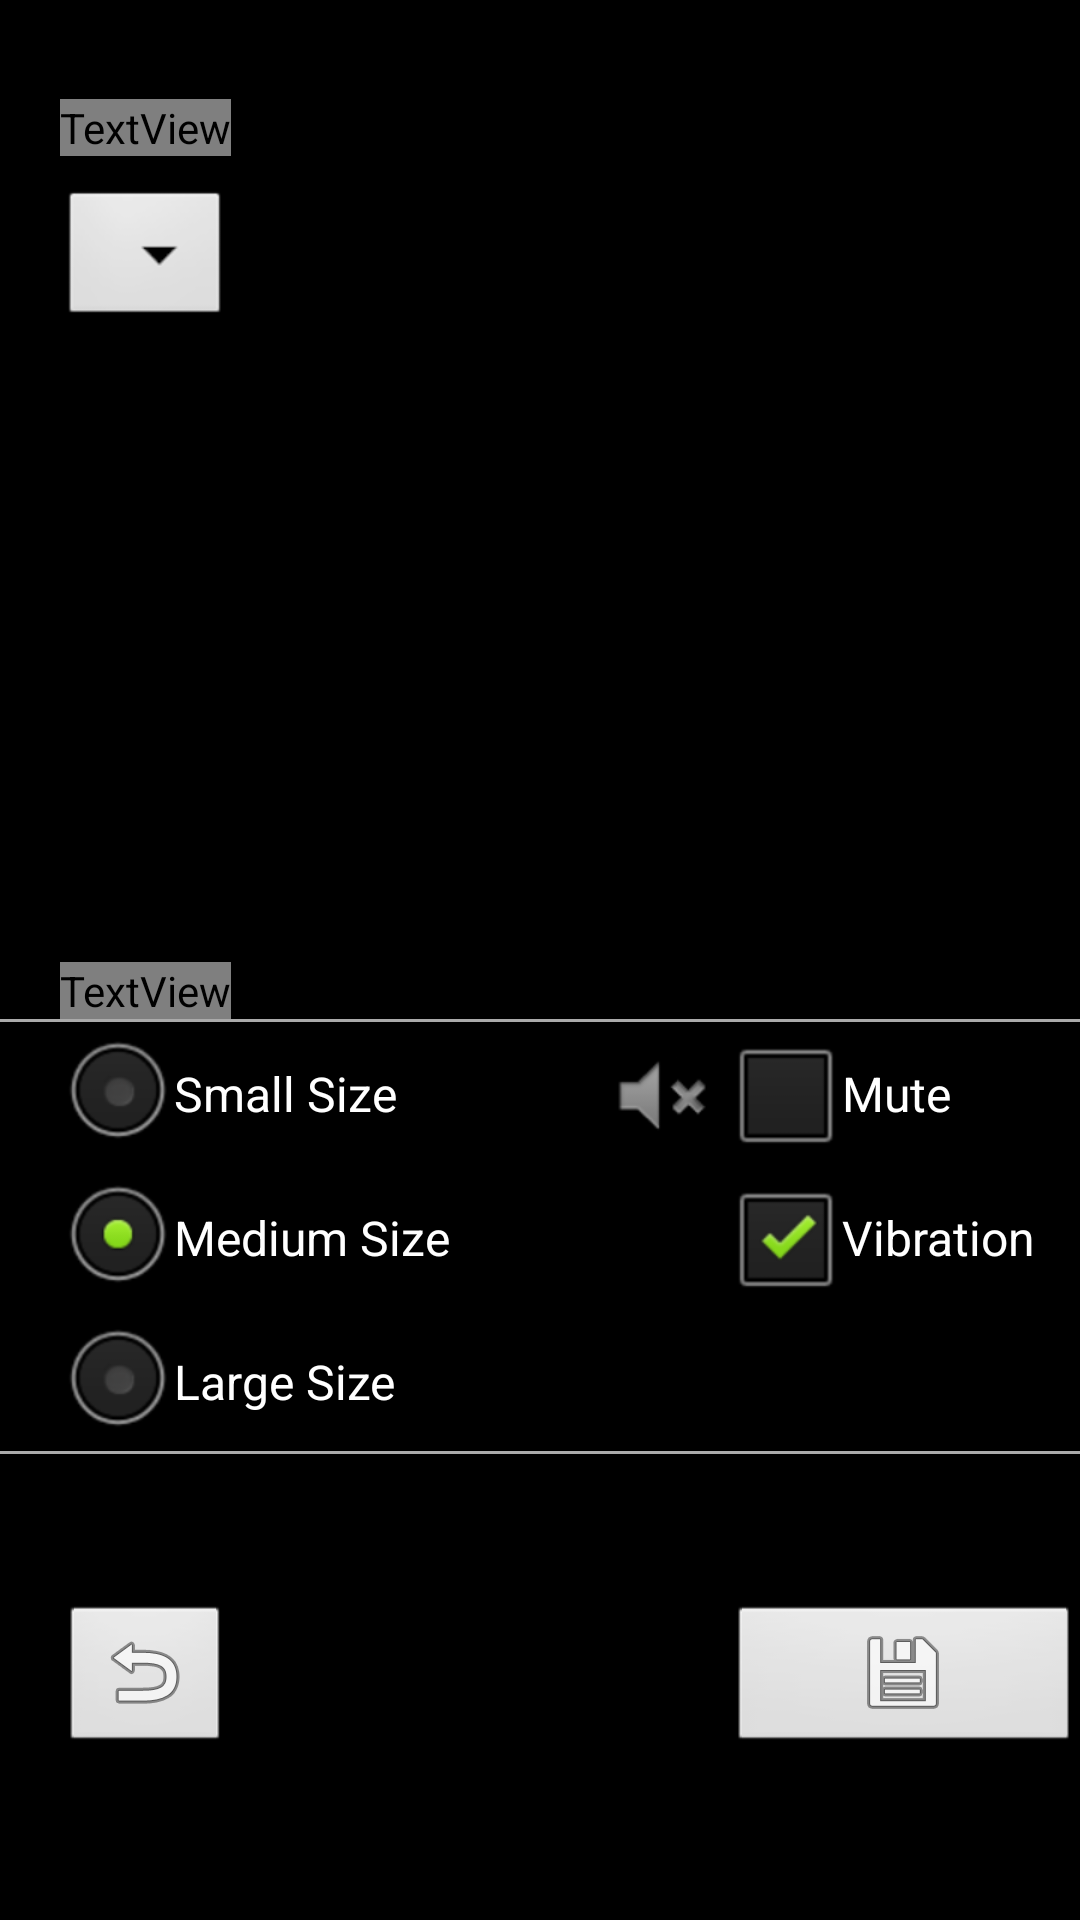

Screen size 1080 x 1920. Icon name, then its center in pixels as (x=x, y=y):
revert: (x=144, y=1673)
save: (x=903, y=1673)
